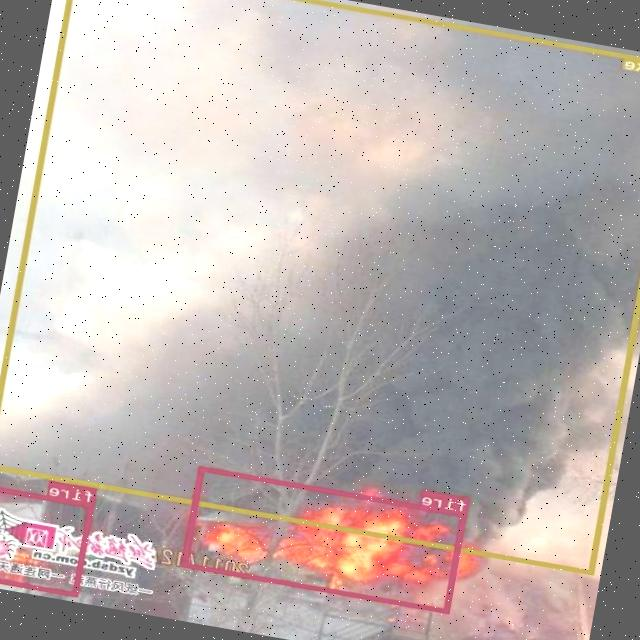fire: (182, 465, 468, 613), (0, 482, 94, 596)
smoke: (0, 0, 640, 573)
